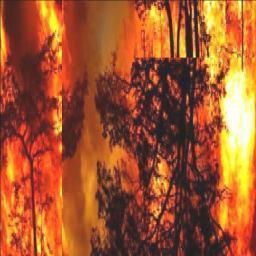Large fire: (0, 0, 256, 256)
